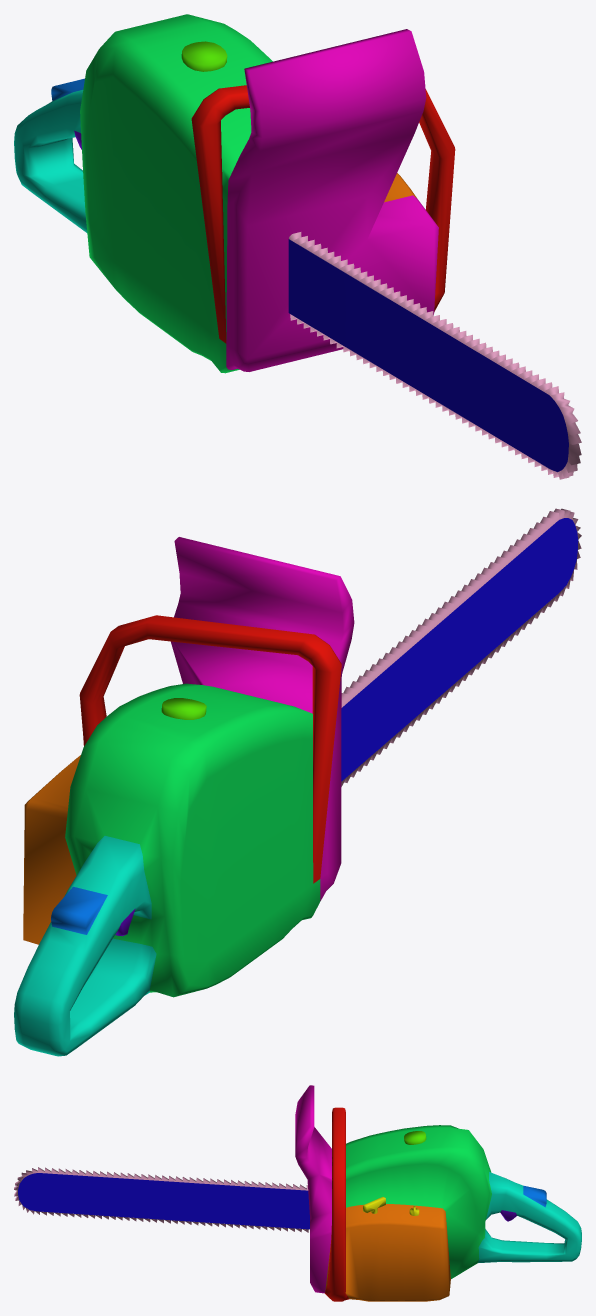
3 renders of one model, top to bottom at view 1: azimuth 30°, elevation 25°; view 2: azimuth 150°, elevation 25°; view 3: azimuth 270°, elevation 25°, orthographic. The views are drawn at different scales.
Parts seen in each view (by area): view 1: Chainsaw_low; view 2: Chainsaw_low; view 3: Chainsaw_low.
Boxes of the visible parts, left/top/right/bottom form: Chainsaw_low: left=14, top=14, right=581, bottom=479; Chainsaw_low: left=14, top=508, right=581, bottom=1056; Chainsaw_low: left=14, top=1085, right=581, bottom=1301.
Size of the model in its own units: 26.65 by 32.4 by 98.48.
